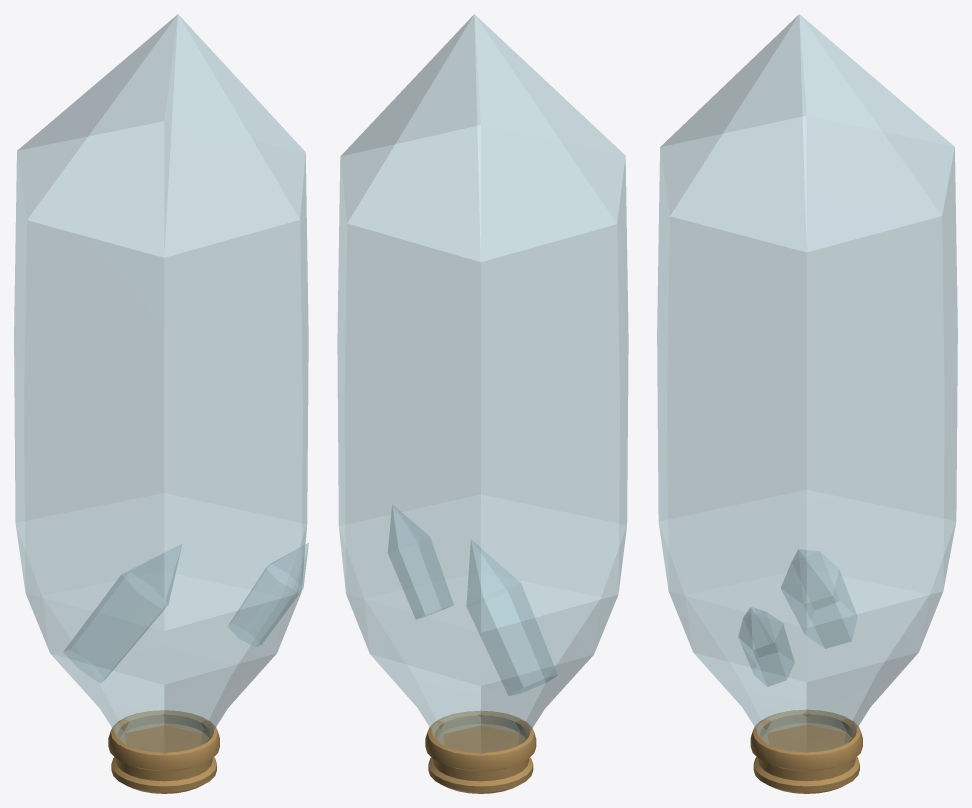
The model's file is nursery_crystal.glb.
3 renders of one model, left to right at view 1: azimuth 30°, elevation 25°; view 2: azimuth 150°, elevation 25°; view 3: azimuth 270°, elevation 25°, orthographic.
Visible parts, largest first — view 1: crystal_body, nursery_crystal; view 2: crystal_body, nursery_crystal; view 3: crystal_body, nursery_crystal.
Part boxes in pixels (left/top/right/bottom): crystal_body: left=14, top=14, right=308, bottom=753; nursery_crystal: left=108, top=710, right=219, bottom=793; crystal_body: left=337, top=14, right=628, bottom=754; nursery_crystal: left=425, top=711, right=536, bottom=793; crystal_body: left=657, top=14, right=957, bottom=752; nursery_crystal: left=750, top=710, right=862, bottom=793.
Size of the model in its own units: 0.0448 by 0.1144 by 0.0407.
